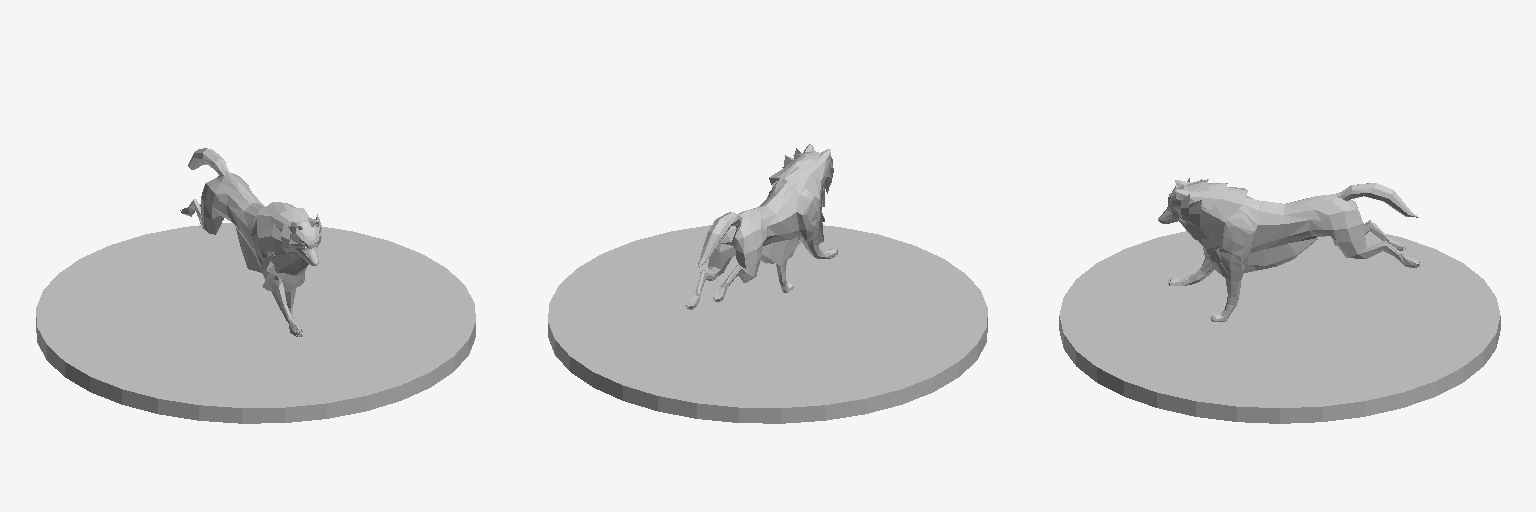
File: Wolf_0001.obj
The picture shows the model from 3 angles: view 1: azimuth 30°, elevation 25°; view 2: azimuth 150°, elevation 25°; view 3: azimuth 270°, elevation 25°; orthographic projection.
Parts seen in each view (by area): view 1: Circle, Wolf1_Material__wolf_col_tga_0, Wolf2_fur__fella3_jpg_001_0; view 2: Circle, Wolf1_Material__wolf_col_tga_0, Wolf2_fur__fella3_jpg_001_0; view 3: Circle, Wolf1_Material__wolf_col_tga_0, Wolf2_fur__fella3_jpg_001_0.
Boxes of the visible parts, x1=… form: Circle: x1=36, y1=223, x2=475, y2=423; Wolf1_Material__wolf_col_tga_0: x1=182, y1=148, x2=318, y2=336; Wolf2_fur__fella3_jpg_001_0: x1=236, y1=202, x2=321, y2=291; Circle: x1=548, y1=225, x2=987, y2=423; Wolf1_Material__wolf_col_tga_0: x1=686, y1=144, x2=836, y2=309; Wolf2_fur__fella3_jpg_001_0: x1=760, y1=148, x2=833, y2=265; Circle: x1=1059, y1=231, x2=1500, y2=423; Wolf1_Material__wolf_col_tga_0: x1=1158, y1=180, x2=1418, y2=321; Wolf2_fur__fella3_jpg_001_0: x1=1168, y1=178, x2=1317, y2=277.
Bounding box in the file's own units: 1.69 × 0.6312 × 1.69.